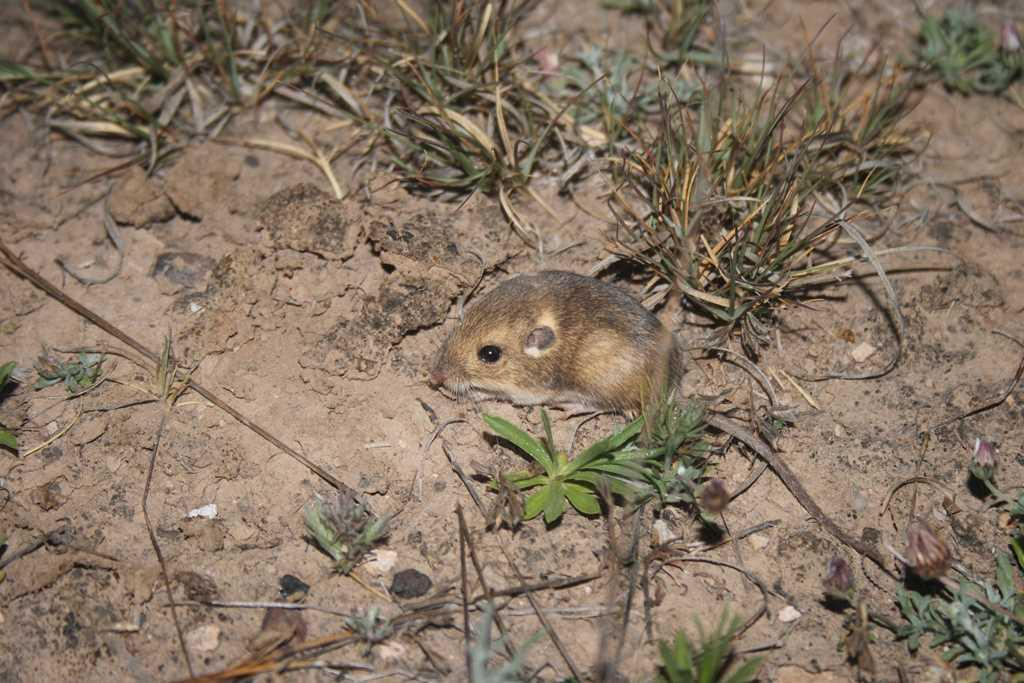rat: (432, 270, 892, 574)
